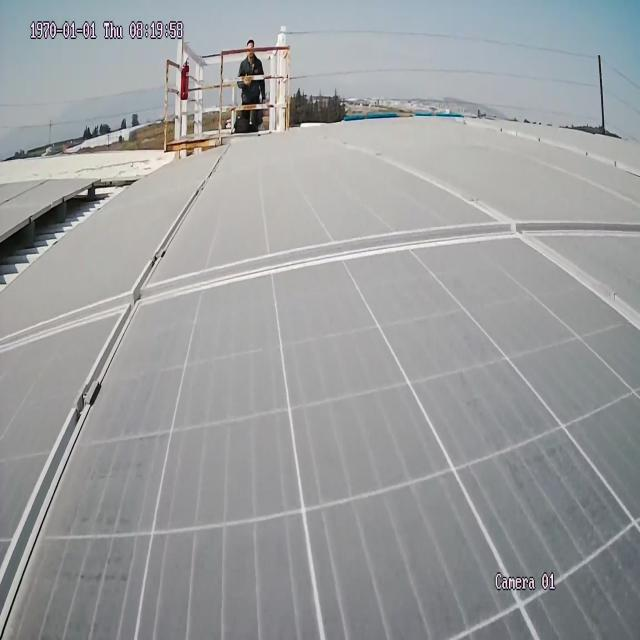interior panel: (0, 149, 639, 626)
outher panel: (0, 179, 135, 300)
